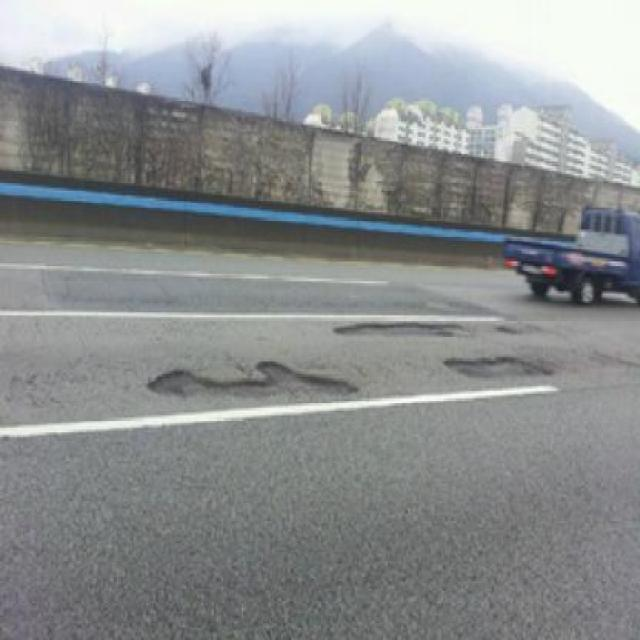Buraco: (147, 357, 362, 404), (439, 354, 556, 382), (329, 319, 471, 342)
